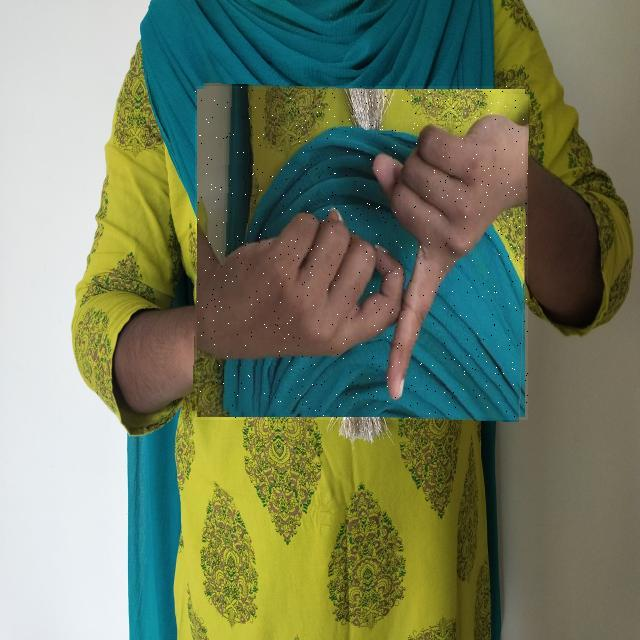K: (195, 86, 528, 420)
